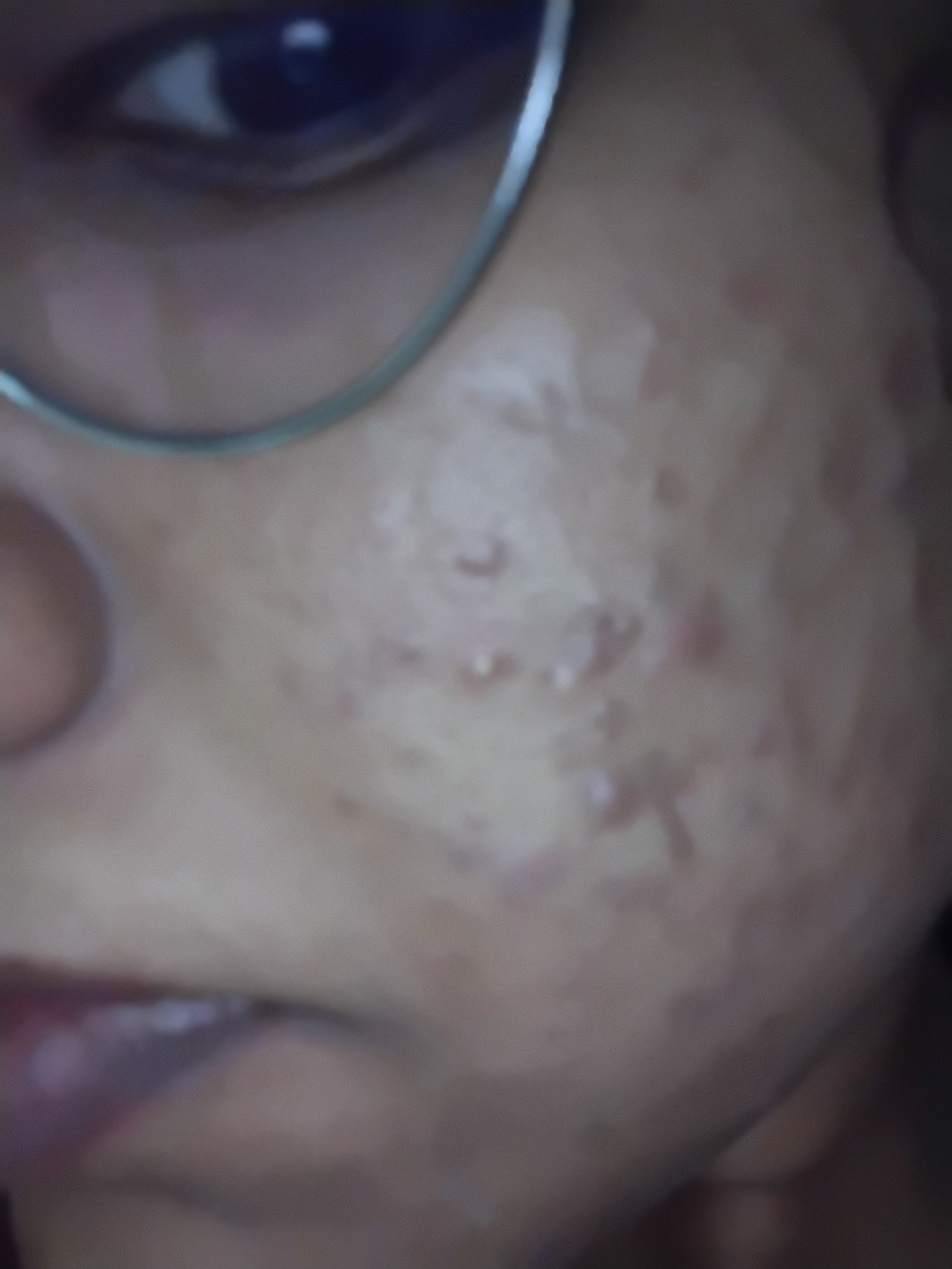nodule: (569, 767, 654, 820)
pustule: (447, 643, 513, 707)
